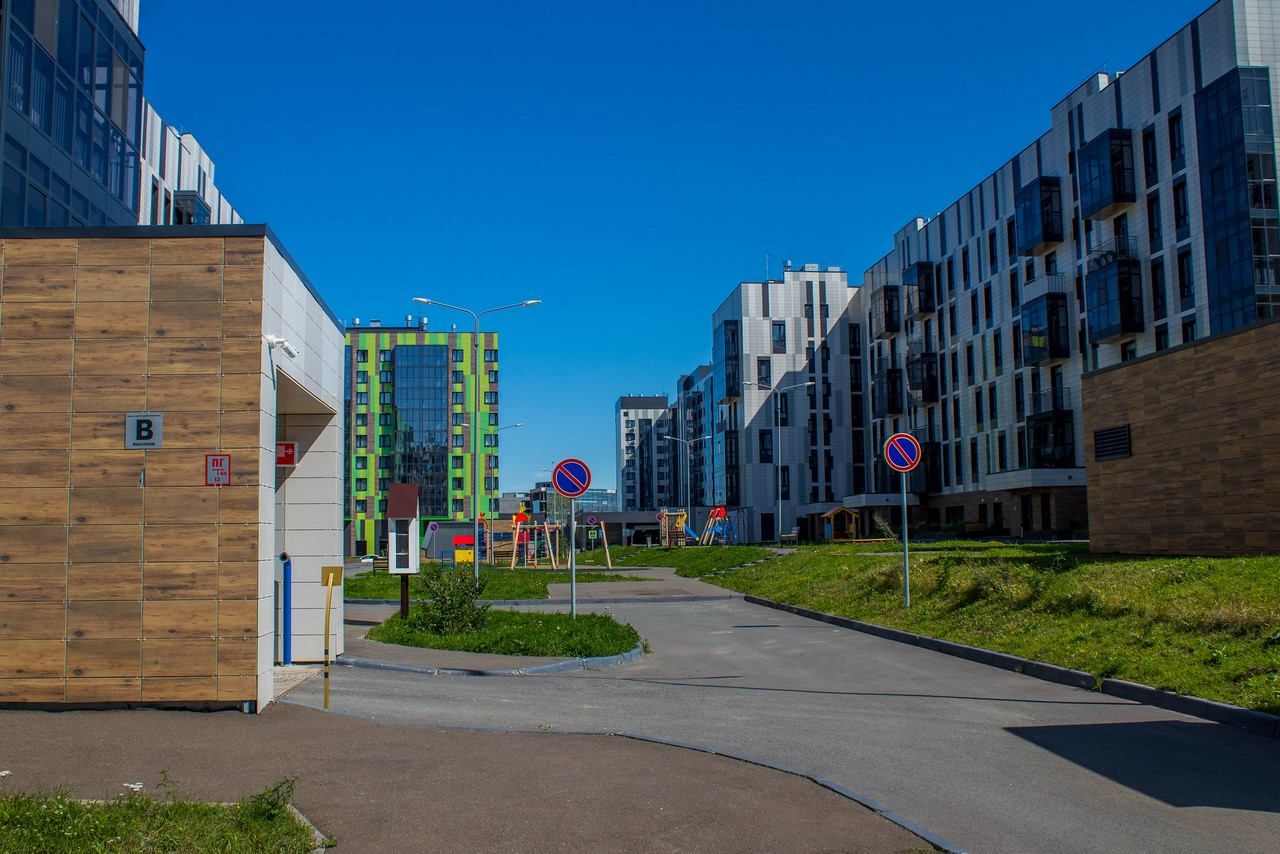sign: (553, 457, 591, 500), (882, 433, 921, 474), (428, 521, 439, 533), (586, 515, 596, 526), (588, 530, 598, 540)
